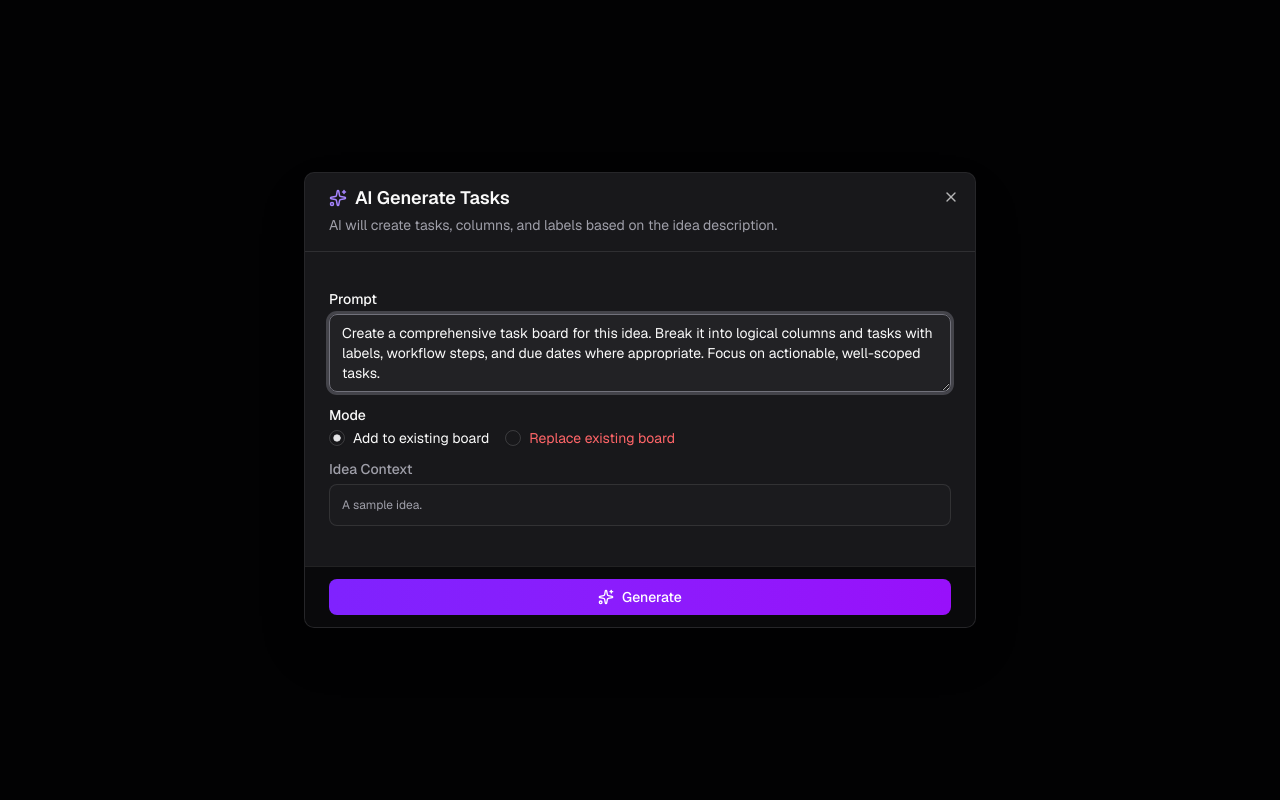
Test case: AiGenerateDialog — a cut-short list › drops the half-written task, shows the amber bar and the button, and creates no new column
Click the button "Generate": [640, 597] box [329,579,951,615]
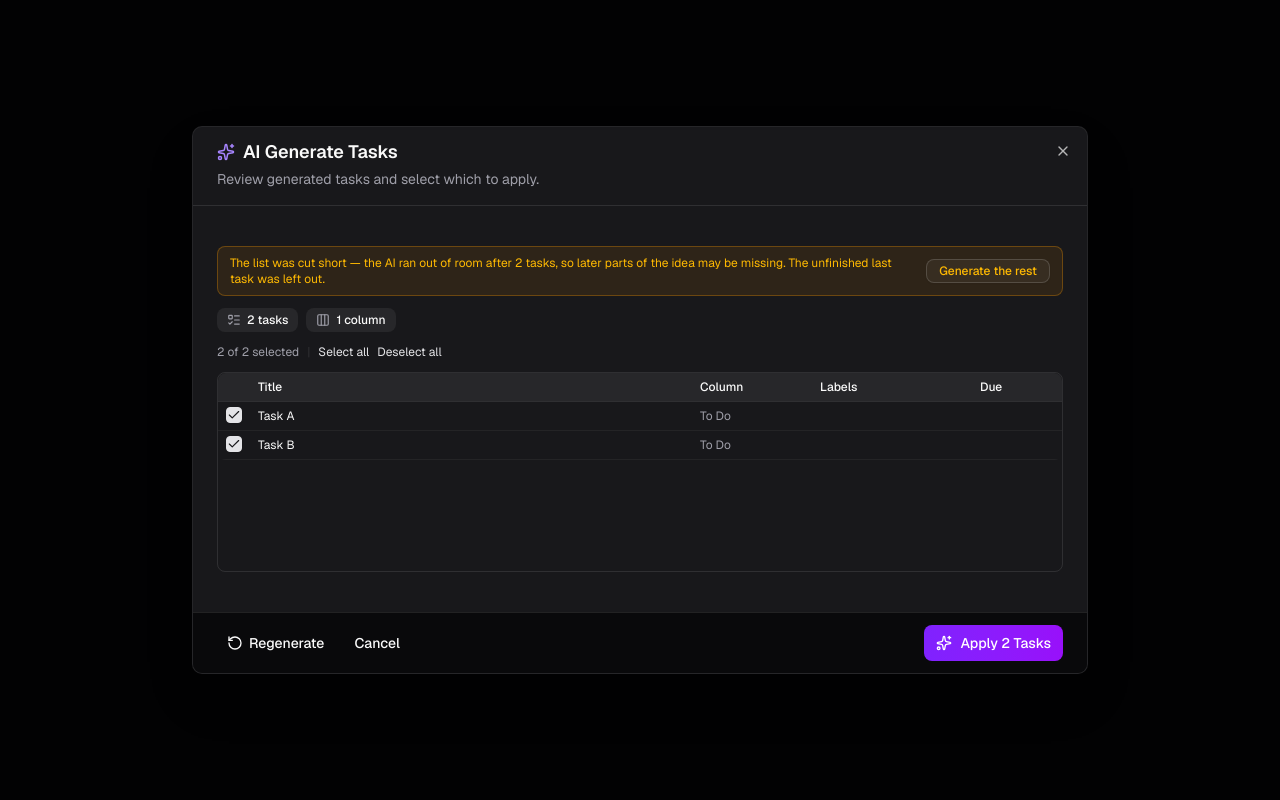
Result: the text "ran out of room after 2 tasks" is shown at [230,255,892,287]
Result: the button "Generate the rest" is shown at [926,259,1050,283]
Result: the button "Apply 2 Tasks" is shown at [924,625,1063,661]
